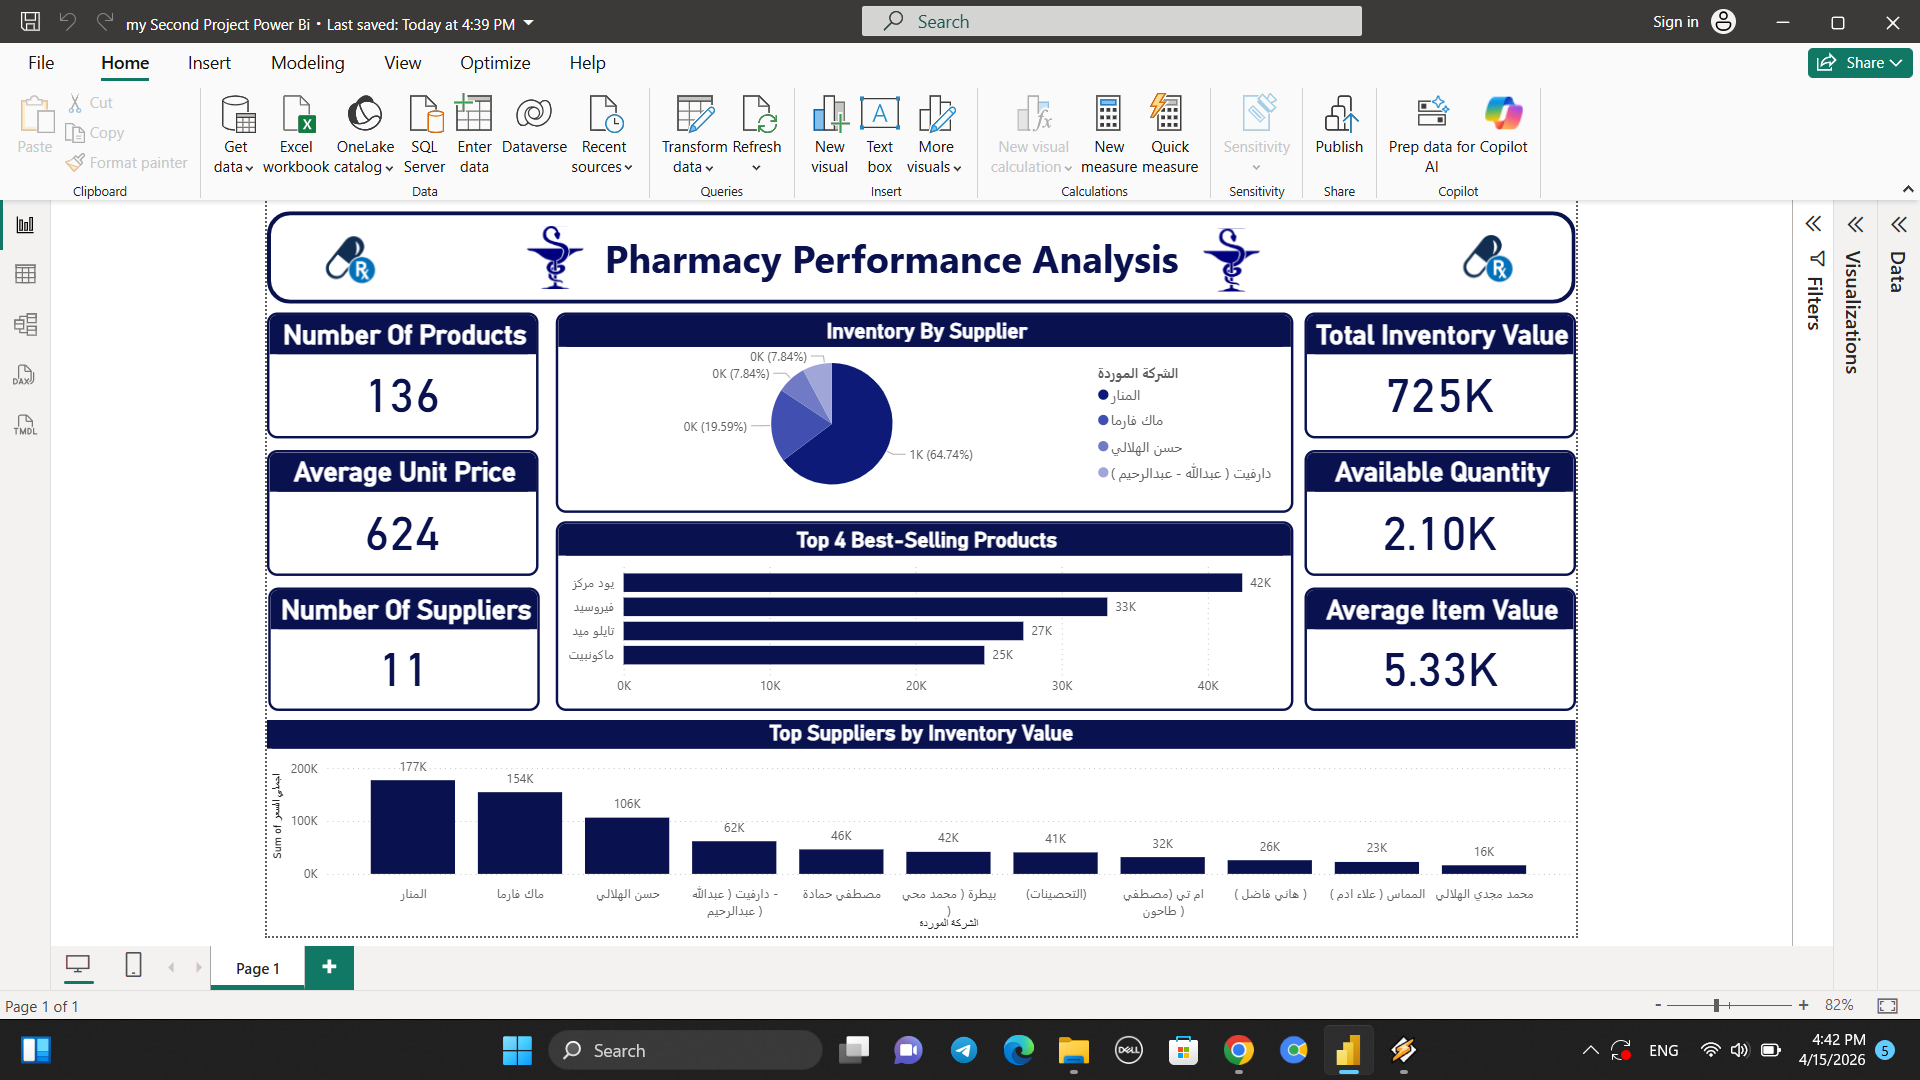

The page's visual inventory and layout, read from the dashboard file:
{"tool":"powerbi","page":{"name":"Page 1","canvas":[1280,720],"ordinal":0},"visuals":[{"type":"shape","box":[0,11,1280.3,90.5],"z":0},{"type":"actionButton","box":[293.7,11,635.3,90.6],"z":1000},{"type":"actionButton","box":[247,16.5,70,81],"z":2000},{"type":"actionButton","box":[908.4,17.8,70,81],"z":3000},{"type":"actionButton","box":[49.4,26.1,79.6,65.9],"z":4000},{"type":"actionButton","box":[1162.3,24.7,79.6,65.9],"z":5000},{"type":"card","title":" Available Quantity","fields":{"Values":["Sum(المخزون1.الكمية)"]},"box":[1015,244.6,265.4,123.5],"z":6000},{"type":"card","title":"Number Of Suppliers","fields":{"Values":["Count(المخزون1.الشركة الموردة )"]},"box":[1.2,379.1,265.4,121.1],"z":7000},{"type":"card","title":"Total Inventory Value","fields":{"Values":["Sum(المخزون1.اجملي السعر)"]},"box":[1015,110.1,265.4,123.5],"z":8000},{"type":"card","title":"Average Unit Price","fields":{"Values":["Avg(المخزون1.سعر الواحدة )"]},"box":[0,244.6,265.4,123.5],"z":9000},{"type":"card","title":"Number Of Products","fields":{"Values":["CountNonNull(المخزون1.الكمية)"]},"box":[0,110.1,265.4,123.5],"z":10000},{"type":"barChart","title":"Top 4 Best-Selling Products","fields":{"Category":["المخزون1.اسم المنتج"],"Y":["Sum(المخزون1.اجملي السعر)"]},"box":[282.5,314.3,721.5,185.9],"z":12000},{"type":"pieChart","title":"Inventory By Supplier","fields":{"Y":["Sum(المخزون1.الكمية)"],"Category":["المخزون1.الشركة الموردة "]},"box":[282.5,110.1,721.5,195.7],"z":13000},{"type":"clusteredColumnChart","title":"Top Suppliers by Inventory Value","fields":{"Y":["Sum(المخزون1.اجملي السعر)"],"Category":["المخزون1.الشركة الموردة "]},"box":[0,508.7,1280.3,211.6],"z":14000},{"type":"card","title":"Average Item Value ","fields":{"Values":["Avg(المخزون1.اجملي السعر)"]},"box":[1015,379.1,265.4,121.1],"z":14002}]}

Visuals, with their boxes on the page's 1280x720 design canvas (x1, y1, x2, y2). These are canvas units, not pixel positions in the 1920x1080 screenshot, which may show the page scaled, cropped or inside an application window:
shape: 0,11,1280,102
actionButton: 294,11,929,102
actionButton: 247,16,317,98
actionButton: 908,18,978,99
actionButton: 49,26,129,92
actionButton: 1162,25,1242,91
" Available Quantity" card: 1015,245,1280,368
"Number Of Suppliers" card: 1,379,267,500
"Total Inventory Value" card: 1015,110,1280,234
"Average Unit Price" card: 0,245,265,368
"Number Of Products" card: 0,110,265,234
"Top 4 Best-Selling Products" barChart: 282,314,1004,500
"Inventory By Supplier" pieChart: 282,110,1004,306
"Top Suppliers by Inventory Value" clusteredColumnChart: 0,509,1280,720
"Average Item Value " card: 1015,379,1280,500
